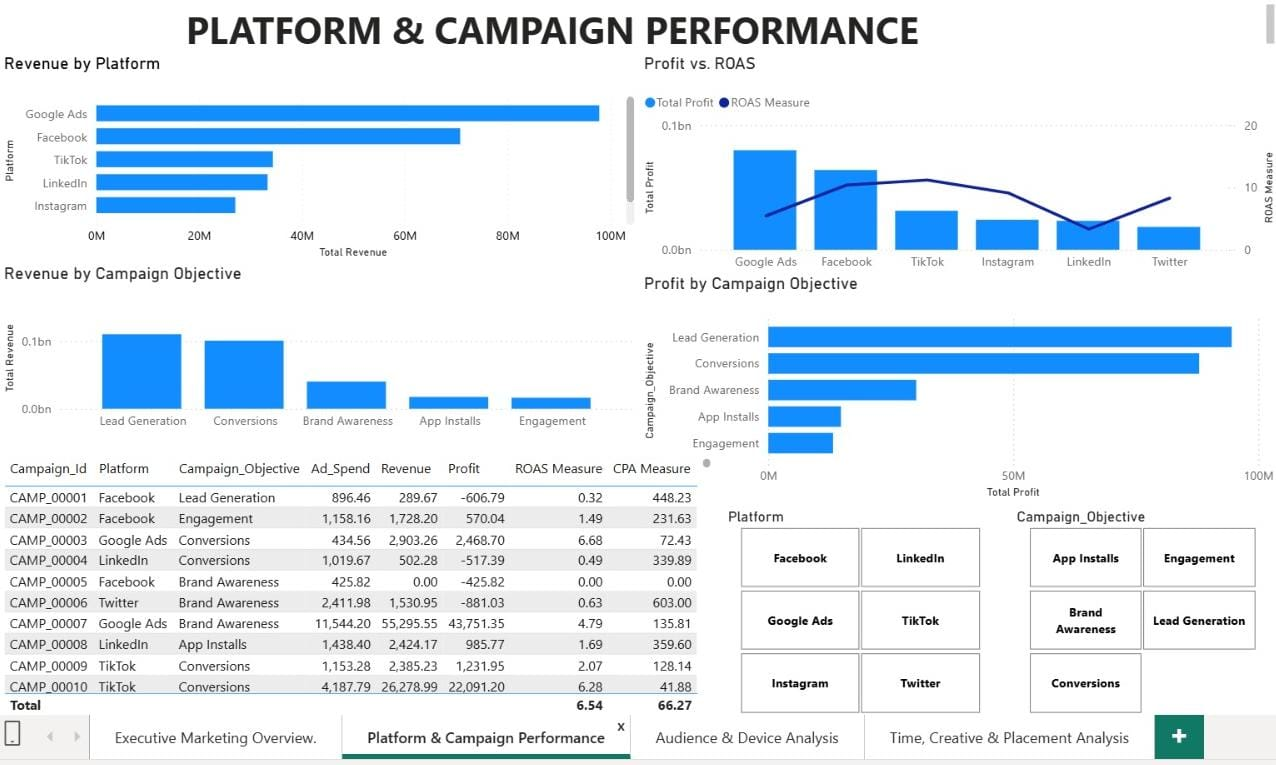

The dashboard page shown, as its layout file describes it:
{"tool":"powerbi","page":{"name":"Platform & Campaign Performance","canvas":[1280,720],"ordinal":1},"visuals":[{"type":"clusteredBarChart","title":" Revenue by Platform","fields":{"Category":["tech_advertising_campaigns_data.Platform"],"Y":["tech_advertising_campaigns_data.Total Revenue"]},"box":[0,54,640,210],"z":0},{"type":"lineClusteredColumnComboChart","title":"Profit vs. ROAS","fields":{"Category":["tech_advertising_campaigns_data.Platform"],"Y":["tech_advertising_campaigns_data.Total Profit"],"Y2":["tech_advertising_campaigns_data.ROAS Measure"]},"box":[640,54,640,236],"z":1000},{"type":"clusteredColumnChart","title":" Revenue by Campaign Objective","fields":{"Category":["tech_advertising_campaigns_data.Campaign_Objective"],"Y":["tech_advertising_campaigns_data.Total Revenue"]},"box":[0,264,640,176],"z":2000},{"type":"clusteredBarChart","title":"Profit by Campaign Objective","fields":{"Category":["tech_advertising_campaigns_data.Campaign_Objective"],"Y":["tech_advertising_campaigns_data.Total Profit"]},"box":[640,274,640,230],"z":3000},{"type":"tableEx","fields":{"Values":["tech_advertising_campaigns_data.Campaign_Id","tech_advertising_campaigns_data.Platform","tech_advertising_campaigns_data.Campaign_Objective","tech_advertising_campaigns_data.Ad_Spend","tech_advertising_campaigns_data.Revenue","tech_advertising_campaigns_data.Profit","tech_advertising_campaigns_data.ROAS Measure","tech_advertising_campaigns_data.CPA Measure"]},"box":[0,454.3,717.1,265.7],"z":4000},{"type":"slicer","fields":{"Values":["tech_advertising_campaigns_data.Platform"]},"box":[716.7,503.3,288.3,216.7],"z":5000},{"type":"slicer","fields":{"Values":["tech_advertising_campaigns_data.Campaign_Objective"]},"box":[1005,503.3,275,216.7],"z":6000},{"type":"textbox","box":[0,0,1280,54],"z":7000}]}

Visuals, with their boxes on the page's 1280x720 design canvas (x1, y1, x2, y2). These are canvas units, not pixel positions in the 1276x765 screenshot, which may show the page scaled, cropped or inside an application window:
" Revenue by Platform" clusteredBarChart: region(0, 54, 640, 264)
"Profit vs. ROAS" lineClusteredColumnComboChart: region(640, 54, 1280, 290)
" Revenue by Campaign Objective" clusteredColumnChart: region(0, 264, 640, 440)
"Profit by Campaign Objective" clusteredBarChart: region(640, 274, 1280, 504)
tableEx - tech_advertising_campaigns_data.Campaign_Id x tech_advertising_campaigns_data.Platform: region(0, 454, 717, 720)
slicer - tech_advertising_campaigns_data.Platform: region(717, 503, 1005, 720)
slicer - tech_advertising_campaigns_data.Campaign_Objective: region(1005, 503, 1280, 720)
textbox: region(0, 0, 1280, 54)
